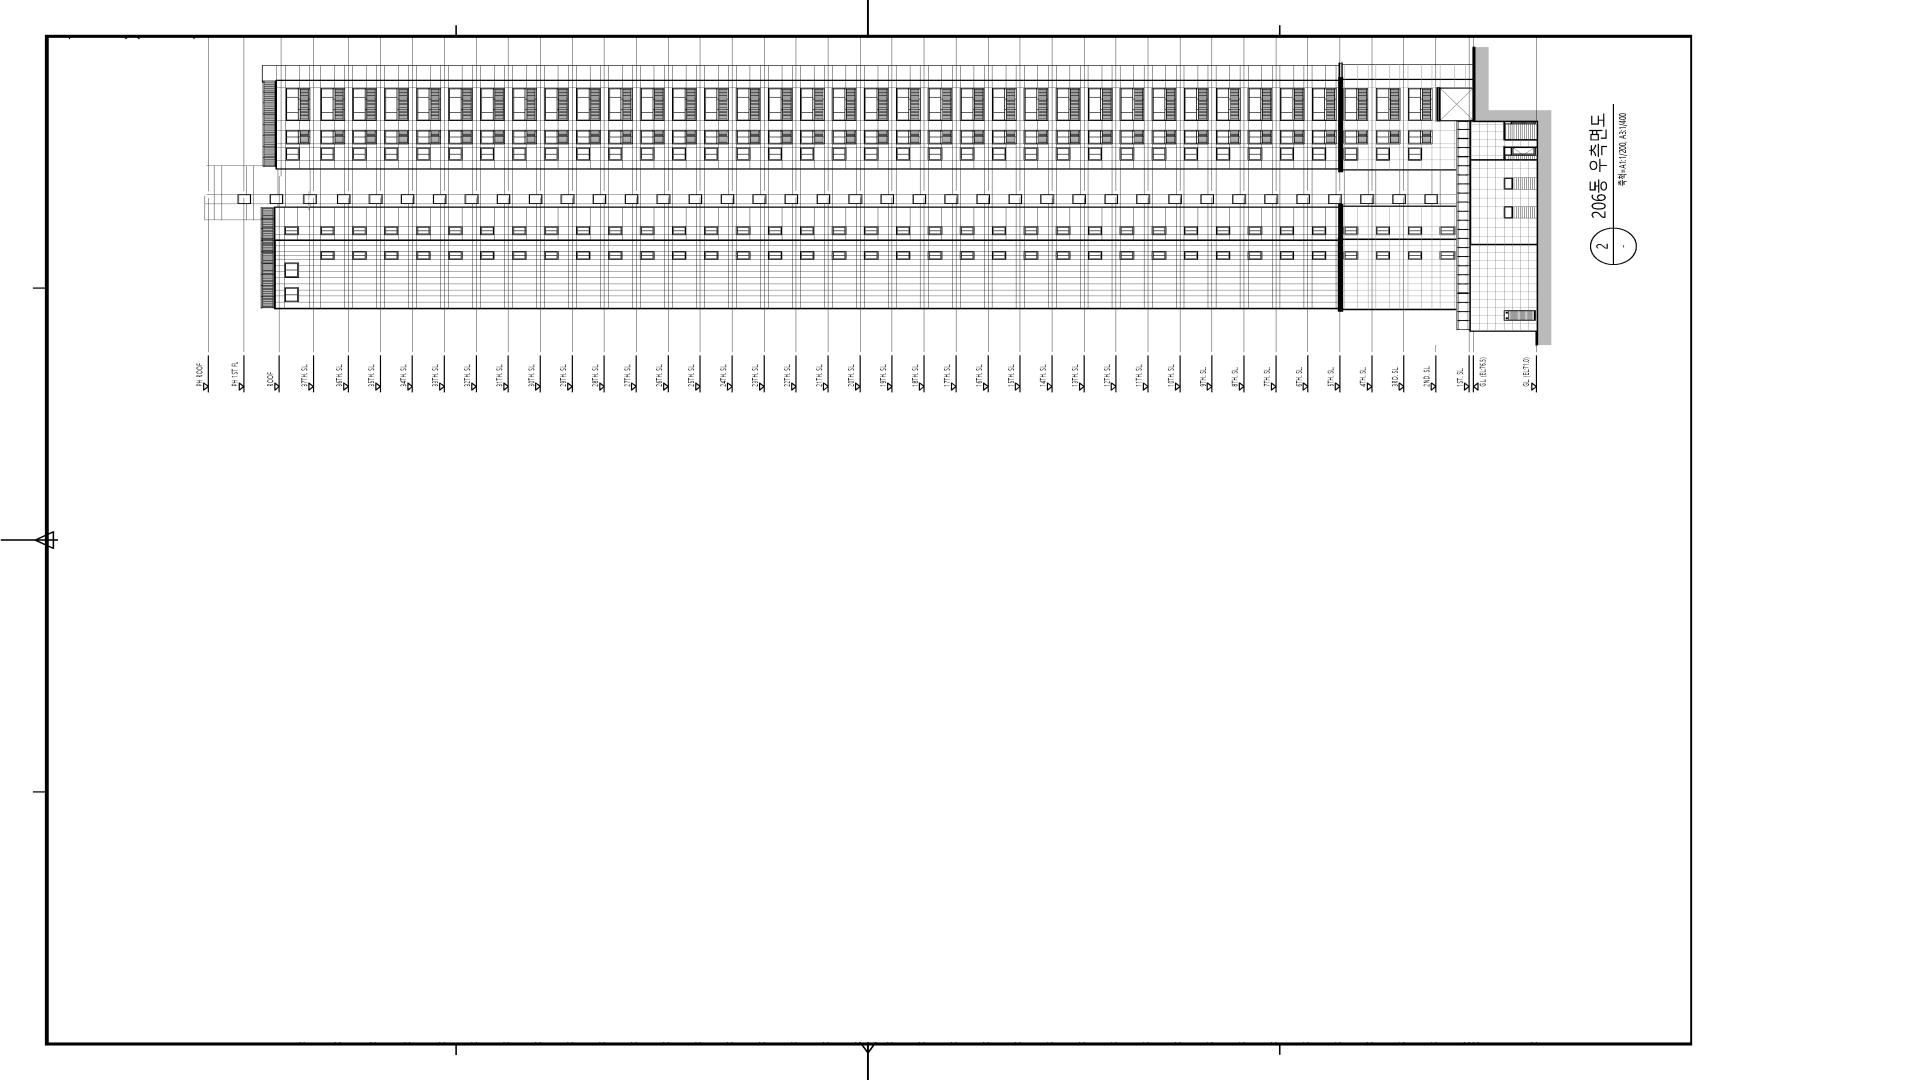door: (1436, 87, 1473, 121), (1511, 148, 1536, 156)
wall: (205, 64, 1539, 332)
window: (320, 87, 345, 121), (448, 87, 473, 121), (960, 87, 985, 121), (286, 88, 311, 121), (352, 88, 377, 121), (384, 88, 409, 121), (416, 88, 441, 121), (480, 88, 505, 121), (512, 88, 537, 121), (544, 88, 569, 121), (576, 88, 601, 121), (608, 88, 633, 121), (640, 88, 665, 121), (672, 88, 697, 121), (704, 88, 729, 121), (736, 88, 761, 121), (768, 88, 793, 121), (800, 88, 825, 121), (832, 88, 857, 121), (864, 88, 889, 121), (896, 88, 921, 121), (928, 88, 953, 121), (992, 88, 1017, 121), (1056, 88, 1081, 121), (1088, 88, 1113, 121), (1152, 88, 1177, 121), (1184, 88, 1209, 121), (1216, 88, 1241, 121), (1248, 88, 1273, 121), (1280, 88, 1305, 121), (1312, 88, 1337, 121), (1343, 88, 1368, 121), (1376, 88, 1401, 121), (1408, 88, 1433, 121), (1024, 88, 1048, 121), (1120, 88, 1144, 121), (1504, 310, 1536, 321), (320, 130, 345, 144), (352, 130, 377, 144), (384, 130, 409, 144), (416, 130, 441, 144), (448, 130, 473, 144), (480, 130, 505, 144), (512, 130, 537, 144), (576, 130, 601, 144), (608, 130, 633, 144), (640, 130, 665, 144), (672, 130, 697, 144), (704, 130, 729, 144), (736, 130, 761, 144), (768, 130, 793, 144), (800, 130, 825, 144), (896, 130, 921, 144), (992, 130, 1017, 144), (1088, 130, 1113, 144), (1184, 130, 1209, 144), (1216, 130, 1241, 144), (1248, 130, 1273, 144), (1312, 130, 1337, 144), (1408, 130, 1433, 144), (286, 130, 310, 144), (544, 130, 568, 144), (832, 130, 856, 144), (864, 130, 888, 144), (928, 130, 952, 144), (960, 130, 984, 144), (1024, 130, 1048, 144), (1056, 130, 1080, 144), (1120, 130, 1144, 144), (1152, 130, 1176, 144), (1280, 130, 1304, 144), (1344, 130, 1368, 144), (1376, 130, 1400, 144), (284, 287, 299, 303), (284, 263, 299, 278), (416, 147, 431, 161), (448, 147, 463, 161), (480, 147, 495, 161), (640, 147, 655, 161), (1023, 147, 1038, 161), (1376, 147, 1391, 161), (321, 147, 335, 161), (352, 147, 366, 161), (576, 147, 590, 161), (672, 147, 686, 161), (832, 147, 846, 161), (960, 147, 974, 161), (1056, 147, 1070, 161), (1120, 147, 1134, 161), (1152, 147, 1166, 161), (1248, 147, 1262, 161), (1088, 147, 1102, 161), (285, 148, 300, 161), (384, 148, 399, 161), (512, 148, 527, 161), (544, 148, 559, 161), (608, 148, 623, 161), (704, 148, 719, 161), (1216, 148, 1231, 161), (1408, 148, 1423, 161), (736, 148, 750, 161), (768, 148, 782, 161), (800, 148, 814, 161), (864, 148, 878, 161), (896, 148, 910, 161), (928, 148, 942, 161), (992, 148, 1006, 161), (1184, 148, 1198, 161), (1280, 148, 1294, 161), (1312, 148, 1326, 161), (1344, 148, 1358, 161), (1440, 226, 1456, 235), (1040, 194, 1054, 204), (1200, 194, 1214, 204), (237, 194, 251, 204), (625, 194, 639, 204), (752, 194, 766, 204), (784, 194, 798, 204), (880, 194, 894, 204), (944, 194, 958, 204), (912, 194, 926, 204), (1264, 194, 1278, 204), (1297, 194, 1311, 204), (1328, 194, 1342, 204), (1360, 195, 1374, 205), (269, 194, 283, 204), (303, 194, 317, 204), (337, 194, 351, 204), (369, 194, 383, 204), (401, 194, 415, 204), (433, 194, 447, 204), (465, 194, 479, 204), (529, 194, 543, 204), (561, 194, 575, 204), (592, 194, 606, 204), (416, 226, 431, 235), (480, 226, 495, 235), (512, 226, 527, 235), (448, 251, 463, 260), (704, 226, 719, 235), (864, 226, 879, 235), (832, 251, 847, 260), (1216, 251, 1231, 260), (1440, 251, 1455, 260), (284, 226, 299, 235), (320, 251, 335, 260), (608, 251, 623, 260), (704, 251, 719, 260), (736, 251, 751, 260), (768, 251, 783, 260), (992, 251, 1007, 260), (320, 226, 335, 235), (352, 226, 367, 235), (384, 226, 399, 235), (352, 251, 367, 260), (512, 251, 527, 260), (544, 251, 559, 260), (608, 226, 623, 235), (1009, 194, 1022, 204), (1073, 194, 1086, 204), (1105, 194, 1118, 204), (1137, 194, 1150, 204), (1169, 194, 1182, 204), (657, 194, 670, 204), (689, 194, 702, 204), (721, 194, 734, 204), (817, 194, 830, 204), (849, 194, 862, 204), (977, 194, 990, 204), (1233, 194, 1246, 204), (1393, 194, 1406, 204), (1425, 194, 1438, 204), (497, 194, 510, 204), (448, 226, 462, 235), (544, 226, 558, 235), (640, 251, 654, 260), (672, 251, 686, 260), (832, 226, 846, 235), (896, 226, 910, 235), (928, 226, 942, 235), (960, 226, 974, 235), (864, 251, 878, 260), (896, 251, 910, 260), (1216, 226, 1230, 235), (1248, 226, 1262, 235), (1280, 226, 1294, 235), (1152, 251, 1166, 260), (1184, 251, 1198, 260), (1248, 251, 1262, 260), (1280, 251, 1294, 260), (1312, 226, 1326, 235), (1344, 226, 1358, 235), (1376, 226, 1390, 235), (1408, 226, 1422, 235), (1312, 251, 1326, 260), (1344, 251, 1358, 260), (1376, 251, 1390, 260), (1408, 251, 1422, 260), (640, 226, 654, 235), (672, 226, 686, 235), (576, 251, 590, 260), (736, 226, 750, 235), (768, 226, 782, 235), (800, 226, 814, 235), (800, 251, 814, 260), (928, 251, 942, 260), (960, 251, 974, 260), (992, 226, 1006, 235), (1024, 226, 1038, 235), (1056, 226, 1070, 235), (1088, 226, 1102, 235), (1120, 226, 1134, 235), (1024, 251, 1038, 260), (1056, 251, 1070, 260), (1088, 251, 1102, 260), (1120, 251, 1134, 260), (1152, 226, 1166, 235), (384, 251, 398, 260), (417, 251, 431, 260), (480, 251, 494, 260), (576, 226, 590, 235), (1504, 206, 1513, 219), (1184, 227, 1198, 235), (1504, 178, 1513, 190)
